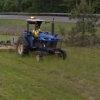Tractor: (11, 12, 74, 68)
